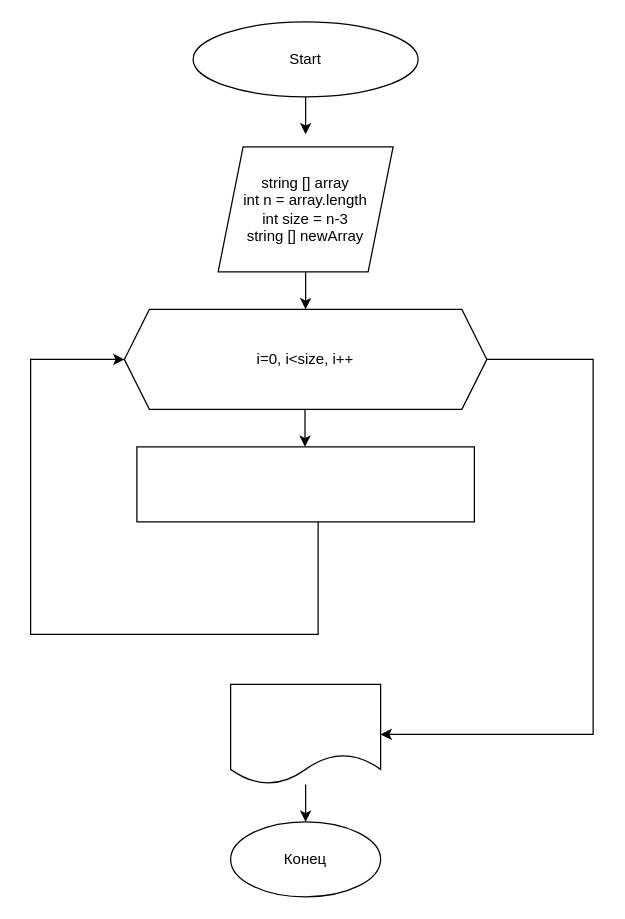
Image size: 625x919. Some labels were removed from this diagram. The shapes that lost their labels are listed below. From the top down, each one's centre as x and y in pixels, then its label:
At point (305, 484): "newArray[i]=array[случайные числа n]".
At point (305, 733): "Вывод newArray".
